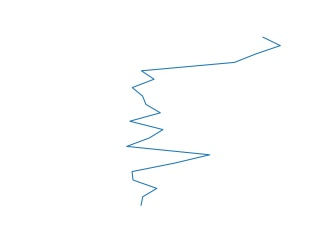crevasseRiverChannelBar: (122, 33, 286, 210)
